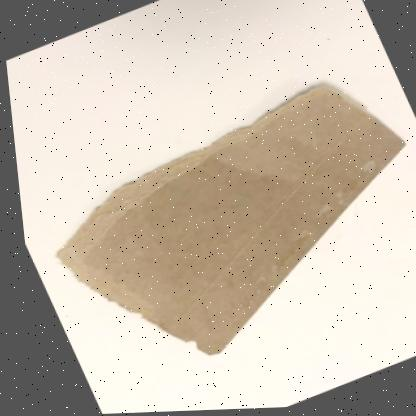Paper: (50, 83, 402, 355)
